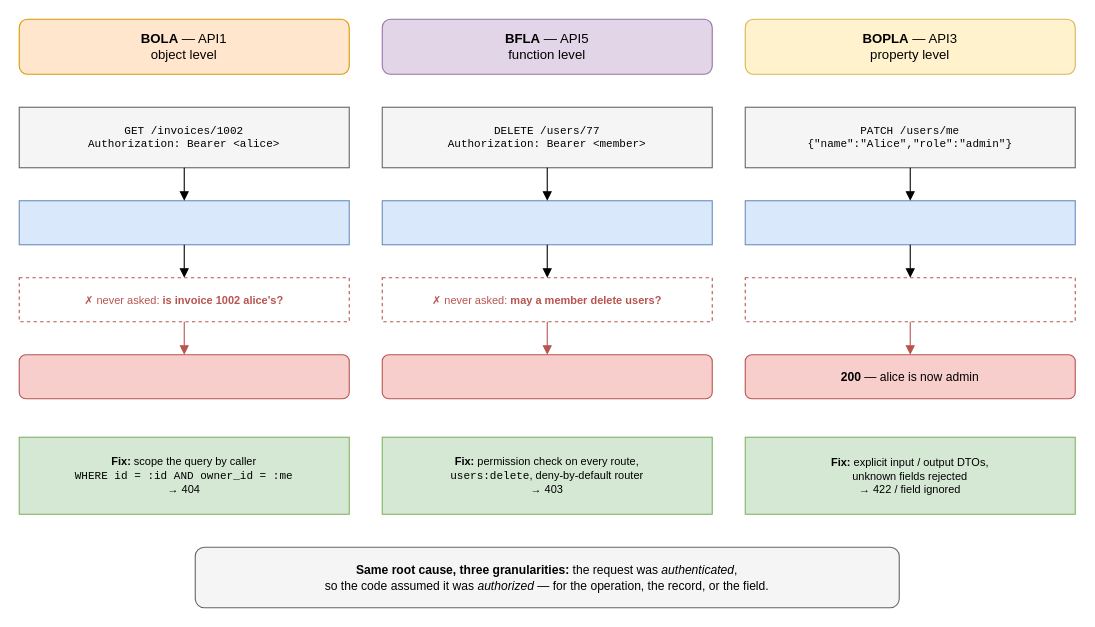
The diagram is 1095 pixels wide and 627 high, and some of its shapes have lost their labels. The shapes that lost their labels are listed below. From the top down, each one's centre as x and y in pixels, then its label:
[183,222]: ✓ token valid — "alice is logged in"
[546,222]: ✓ token valid — UI hides the delete button
[909,222]: ✓ token valid — body bound onto User entity
[909,299]: ✗ never asked: may alice write "role"?
[183,376]: 200 — Bob's invoice leaked
[546,376]: 204 — another user deleted
